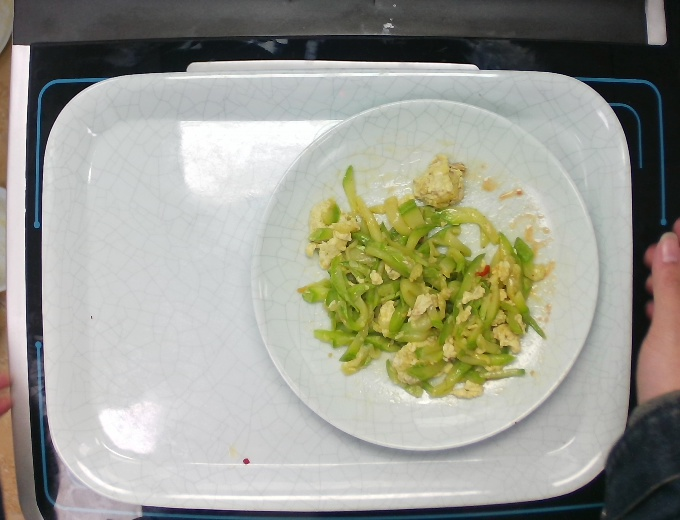JYsf-Da_Yuan_Pan: (251, 98, 602, 451)
